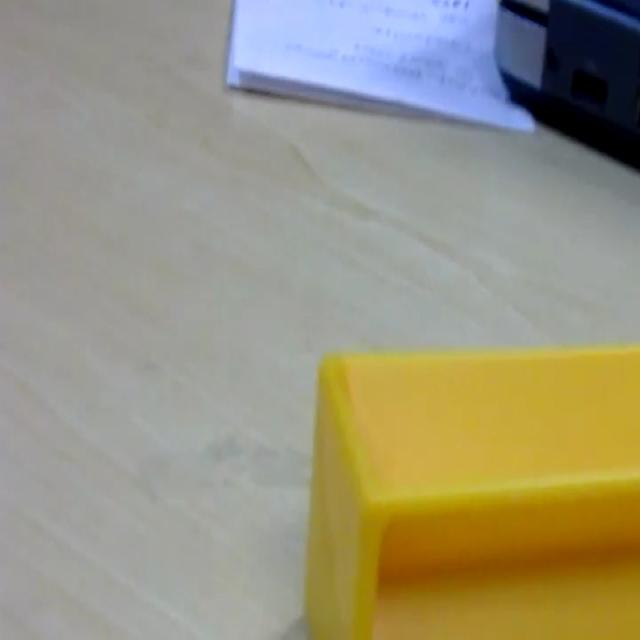yellow_block: (304, 343, 638, 636)
